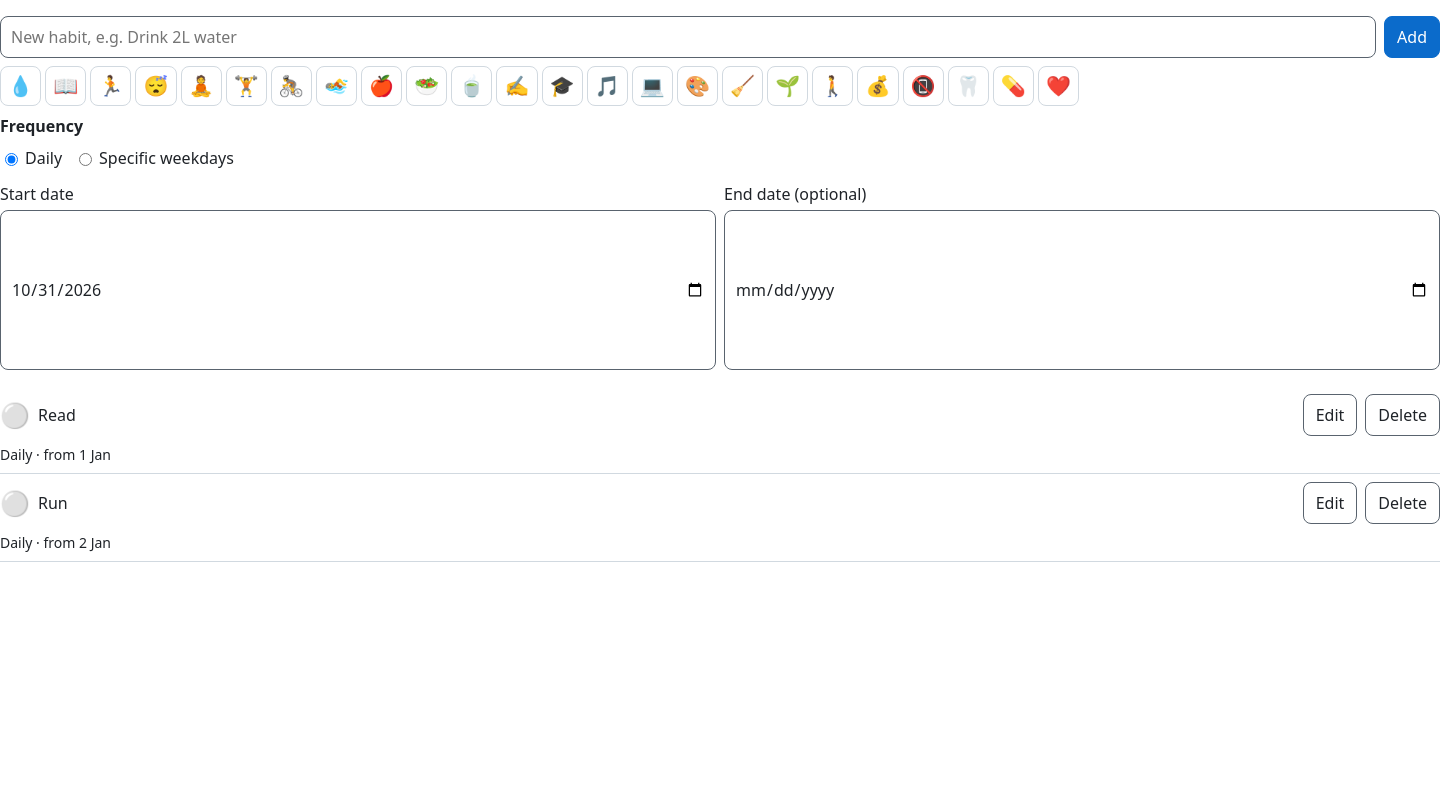
Scenario: HabitList › AC9 (#1): Delete while editing cancels the edit and opens the dialog for that habit
Click the button with aria-label "Edit Read" at (1330, 415), box x1=1303 y1=394 x2=1357 y2=436
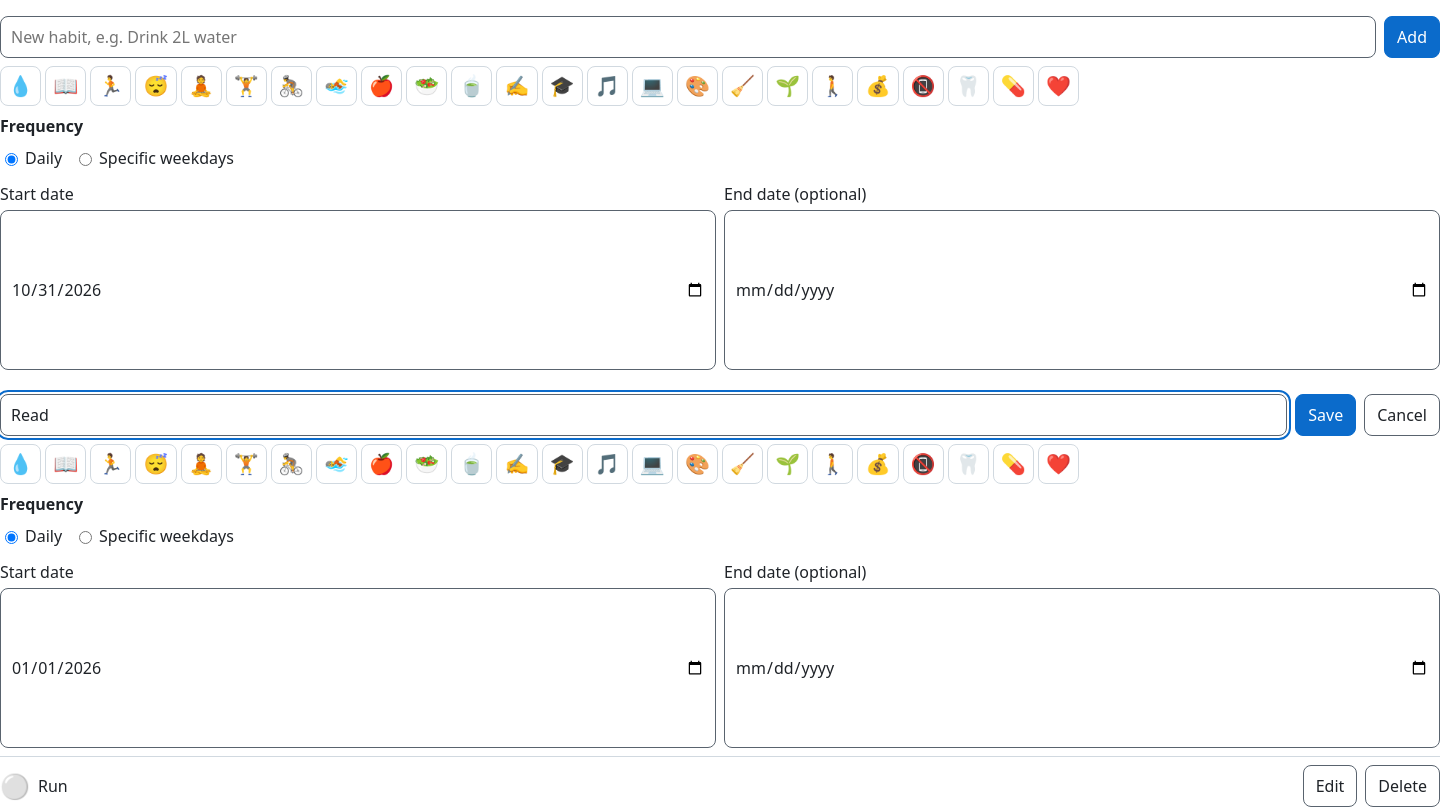
Type "ing" into the field named "Name for Read" at (644, 415), box x1=0 y1=394 x2=1287 y2=436
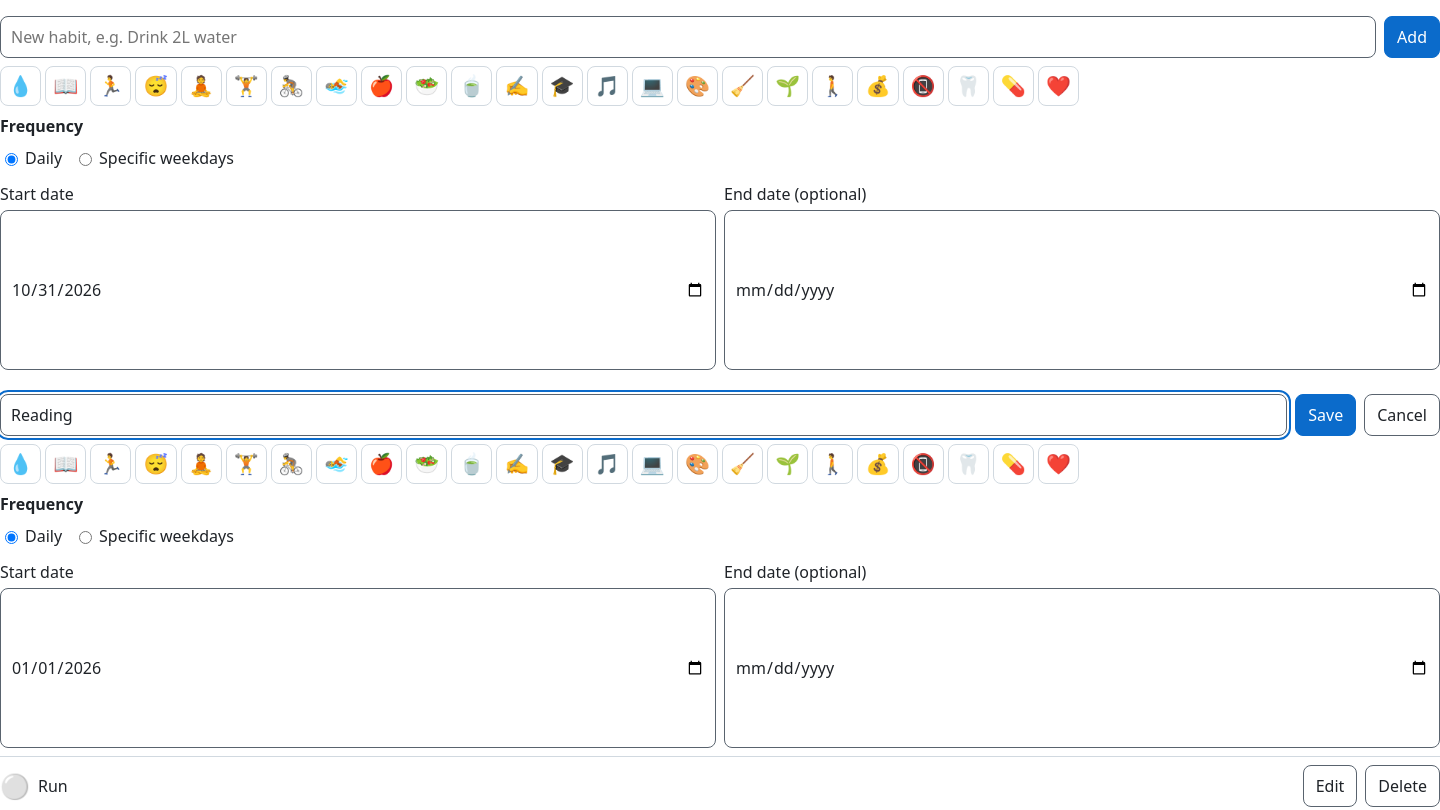
Click the button with aria-label "Delete Run" at (1403, 786), box x1=1365 y1=765 x2=1439 y2=807
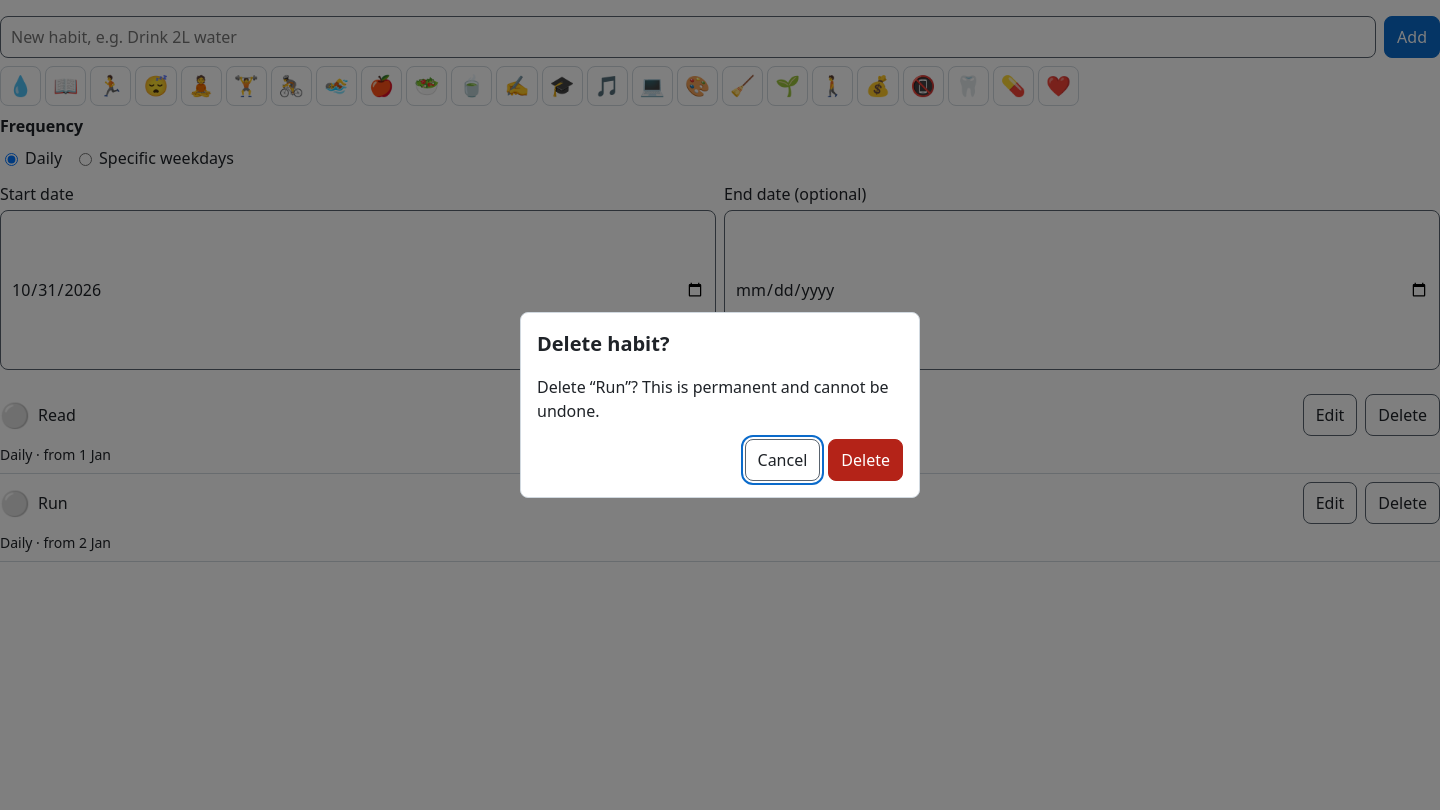
Check: the list item "Read" is shown, box x1=0 y1=386 x2=1439 y2=474
Check: the dialog shows "Run", box x1=596 y1=376 x2=625 y2=398
